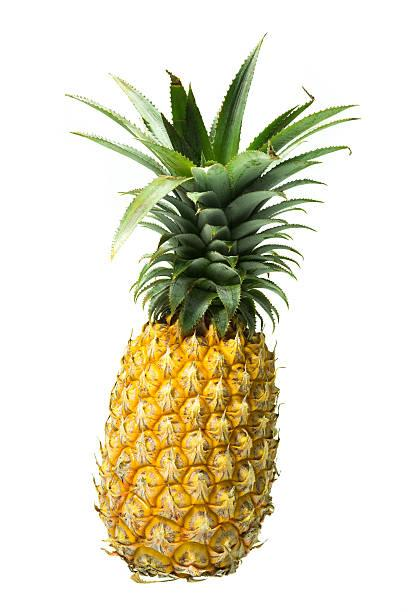pineapple: (62, 20, 337, 597)
